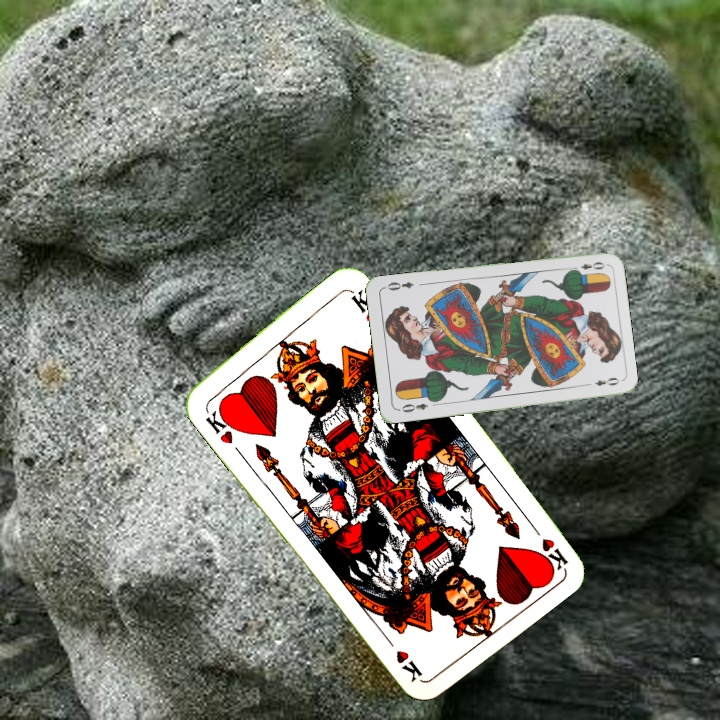EO: (567, 258, 607, 275), (394, 399, 430, 415)
HK: (525, 518, 571, 573), (200, 402, 241, 447)
